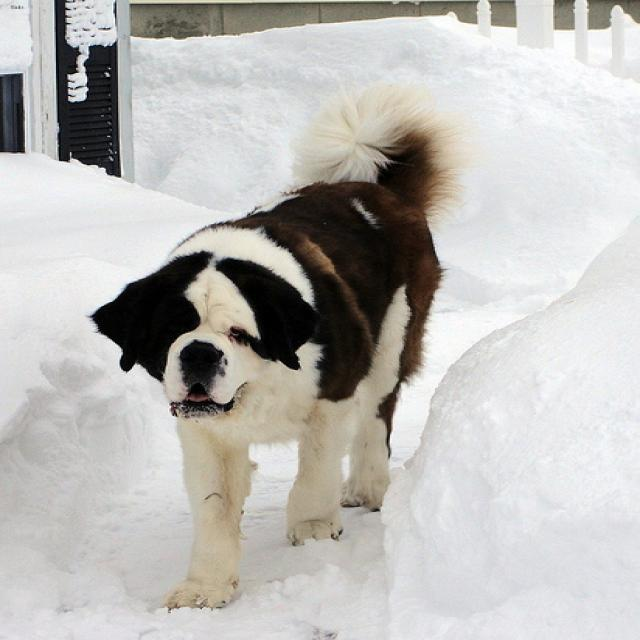dog-saint_bernard: (85, 74, 460, 614)
